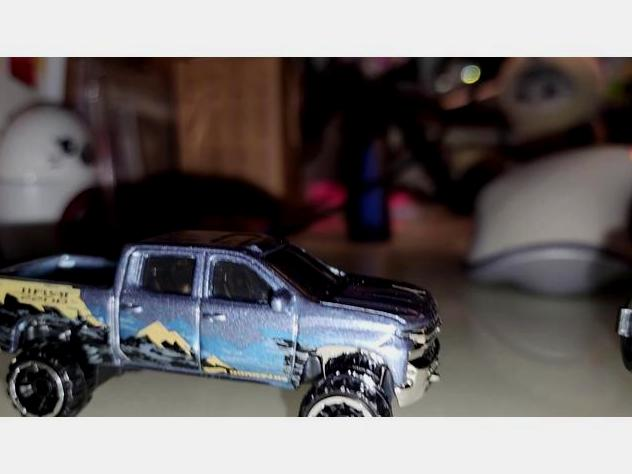toy-car: (0, 227, 444, 417)
